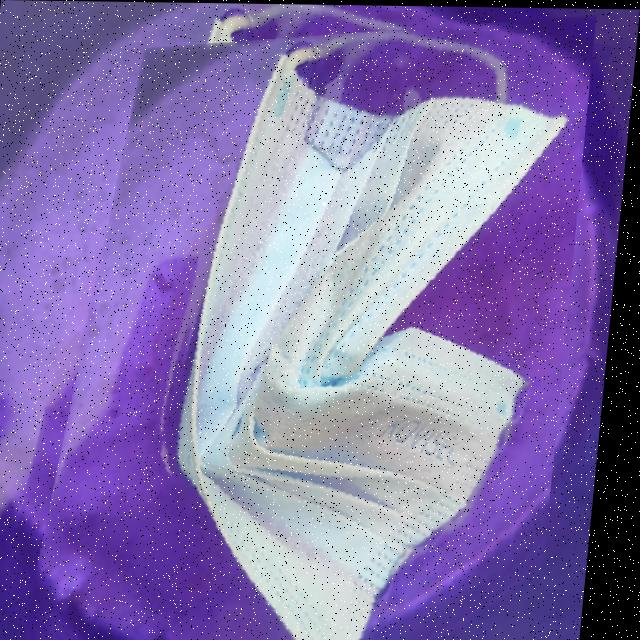mask: (29, 1, 596, 640)
